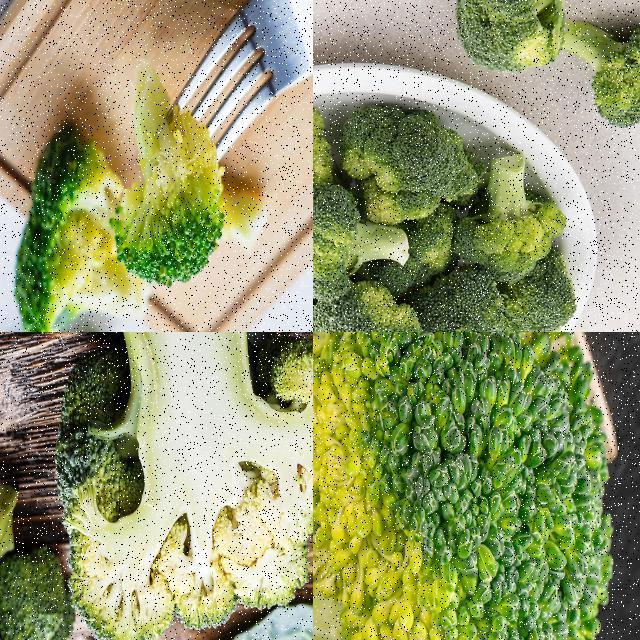broccoli: (313, 332, 619, 639), (52, 332, 312, 639), (313, 109, 568, 331), (110, 69, 224, 293), (14, 153, 156, 331), (458, 0, 590, 76), (562, 15, 639, 126)
